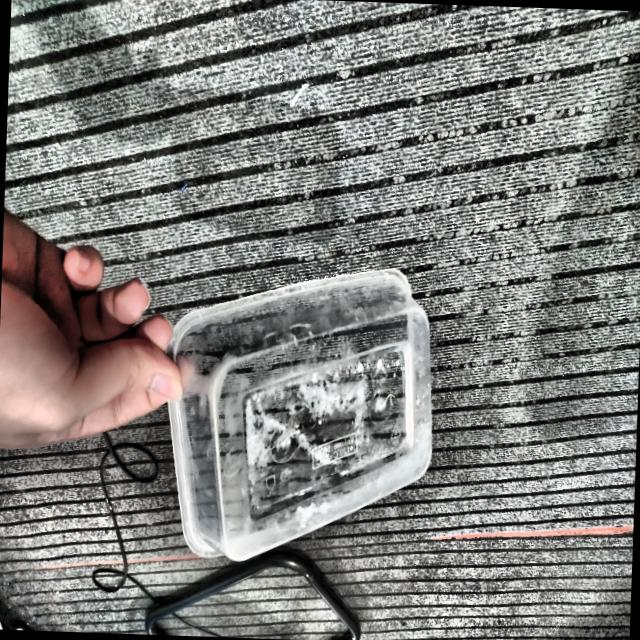plastic container: (168, 269, 432, 559)
